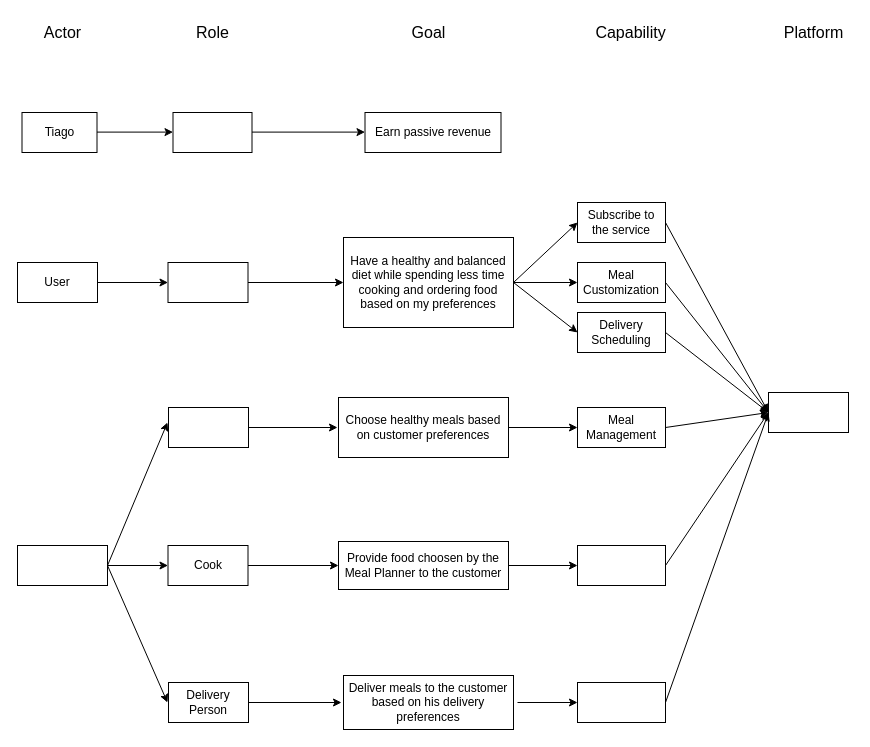
Some shapes in this 870 by 747 pixel diagram are drawn without their labels. The shapes that lost their labels are listed below. From the top down, each one's box as (x1, y1, x2, y2) in pixels, then its label:
(172, 112, 252, 152): Business Owner
(167, 262, 248, 302): Customer
(168, 406, 248, 448): Meal Planner
(768, 392, 848, 432): System I'll build
(16, 544, 108, 586): Team Member
(576, 544, 666, 586): Stock Management
(576, 682, 666, 722): Delivery Tracking
